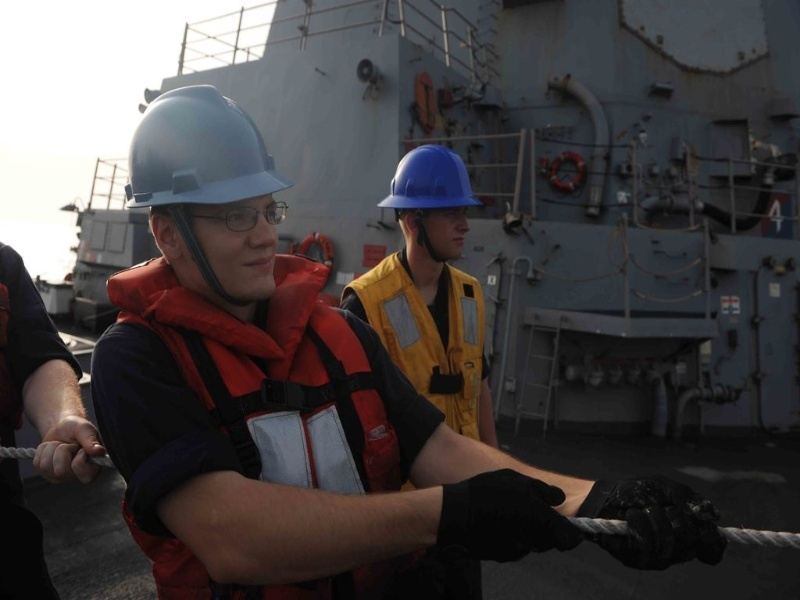baret: (123, 82, 295, 206), (377, 145, 487, 210)
